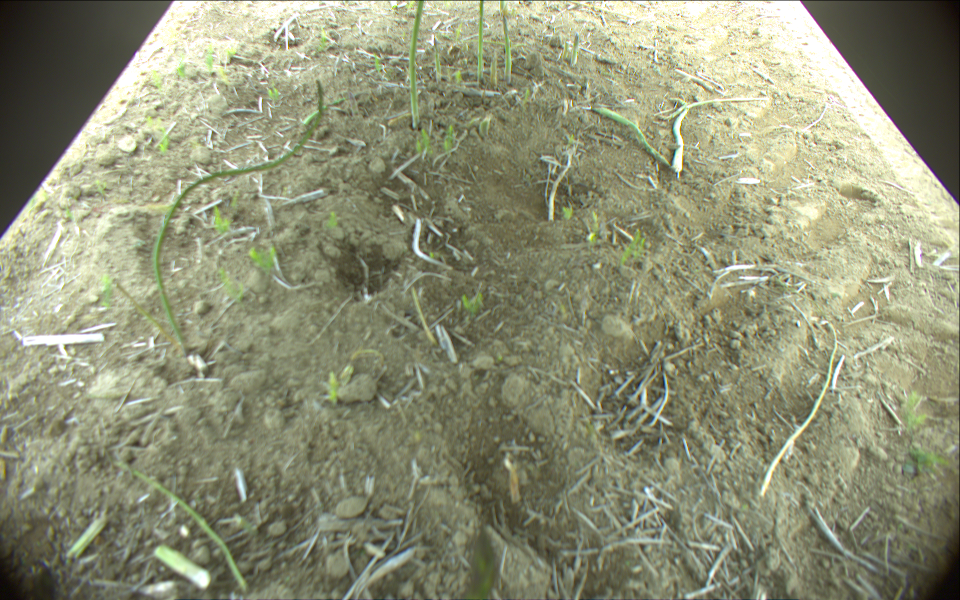aspa: (152, 80, 325, 358), (118, 463, 250, 593), (762, 322, 837, 497), (670, 95, 767, 173), (594, 104, 667, 164), (408, 1, 426, 131), (154, 547, 210, 588), (500, 1, 512, 84), (476, 1, 485, 84), (570, 34, 581, 66), (434, 39, 442, 82), (492, 52, 499, 88), (563, 42, 570, 58)
